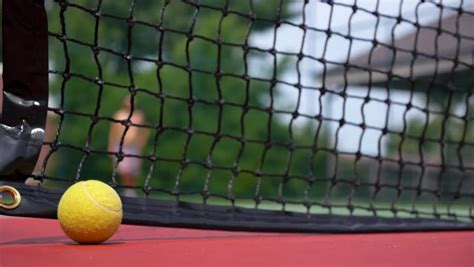tennis_ball: (57, 179, 123, 244)
